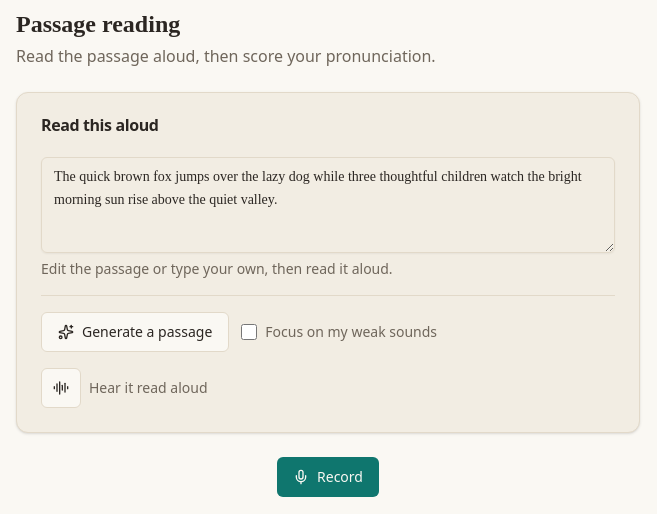
Test: PassageScoring › should block recording when the passage is emptied
The image size is (657, 514).
Clear the text box named "Passage to read": (328, 205) [41,157,615,253]
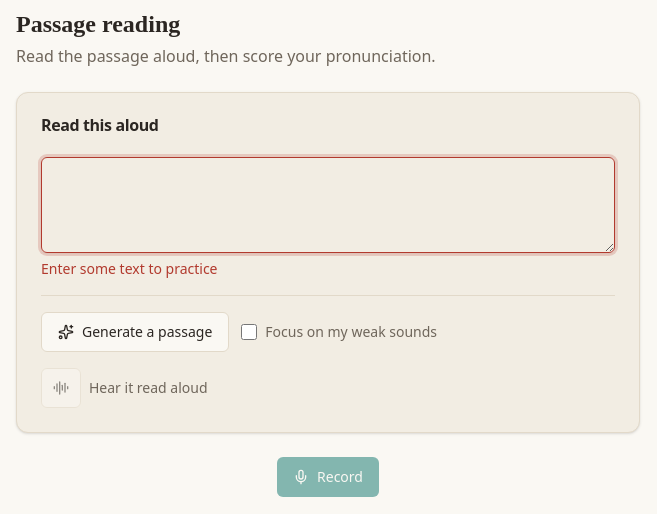
Result: the button "Record" is disabled at [277,457,379,497]
Result: the text "Enter some text to practice" is shown at [41,259,218,278]
